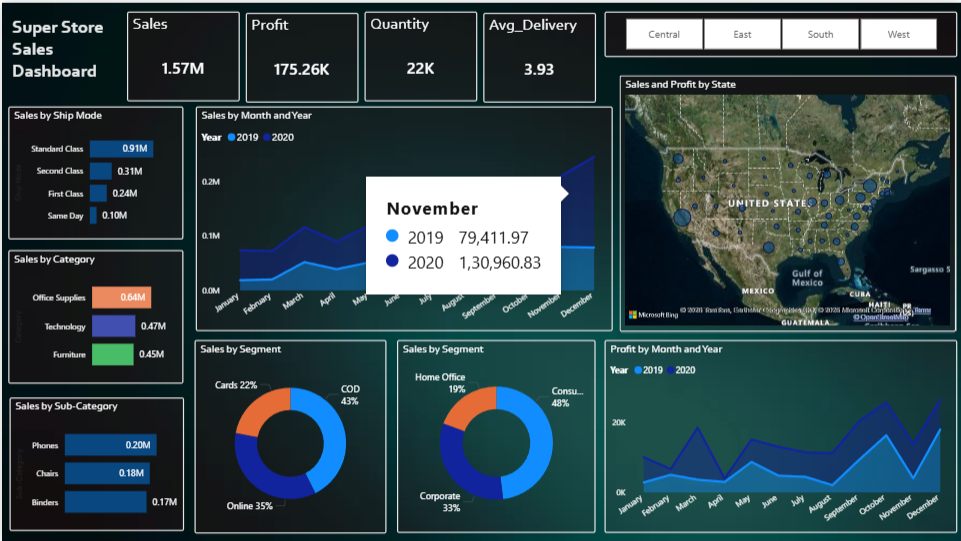

The page's visual inventory and layout, read from the dashboard file:
{"tool":"powerbi","page":{"name":"Page 1","canvas":[1280,720],"ordinal":0},"visuals":[{"type":"clusteredBarChart","title":"Sales by Category","fields":{"Category":["Table1.Category"],"Y":["Sum(Table1.Sales)"]},"box":[8.8,330,233.8,178.8],"z":0},{"type":"clusteredBarChart","title":"Sales by Sub-Category","fields":{"Y":["Sum(Table1.Sales)"],"Category":["Table1.Sub-Category"]},"box":[10,526.2,232.5,178.8],"z":1000},{"type":"clusteredBarChart","title":"Sales by Ship Mode","fields":{"Y":["Sum(Table1.Sales)"],"Category":["Table1.Ship Mode"]},"box":[8.8,138.8,233.8,177.5],"z":2000},{"type":"stackedAreaChart","title":"Profit by Month and Year","fields":{"Category":["Table1.Order Date.Variation.Date Hierarchy.Month"],"Series":["Table1.Order Date.Variation.Date Hierarchy.Year"],"Y":["Sum(Table1.Profit)"]},"box":[802.5,450,470,257.5],"z":3000},{"type":"stackedAreaChart","title":"Sales by Month and Year","fields":{"Y":["Sum(Table1.Sales)"],"Category":["Table1.Order Date.Variation.Date Hierarchy.Month"],"Series":["Table1.Order Date.Variation.Date Hierarchy.Year"]},"box":[257.5,138.8,556.2,300],"z":4000},{"type":"map","title":"Sales and Profit by State","fields":{"Category":["Table1.State"],"Size":["Sum(Table1.Sales)"]},"box":[823.8,96.2,448.8,342.5],"z":5000},{"type":"donutChart","title":"Sales by Segment","fields":{"Category":["Table1.Segment"],"Y":["Sum(Table1.Sales)"]},"box":[526.2,450,265,257.5],"z":6000},{"type":"donutChart","title":"Sales by Segment","fields":{"Y":["Sum(Table1.Sales)"],"Category":["Table1.Payment Mode"]},"box":[257.1,450,255.7,258.6],"z":7000},{"type":"slicer","fields":{"Values":["Table1.Region"]},"box":[803,12,470,61],"z":8000},{"type":"cardVisual","title":"Profit","fields":{"Data":["Sum(Table1.Profit)"]},"box":[325,13,150,120],"z":9000},{"type":"cardVisual","title":"Sales","fields":{"Data":["Sum(Table1.Sales)"]},"box":[167,12,150,120],"z":10000},{"type":"cardVisual","title":"Quantity","fields":{"Data":["Sum(Table1.Quantity)"]},"box":[483,12,150,120],"z":11000},{"type":"cardVisual","title":"Avg_Delivery","fields":{"Data":["Avg(Table1.Avg_Delivery)"]},"box":[642,14,150,120],"z":12000},{"type":"textbox","box":[8.9,12.2,146.7,120],"z":13000}]}

Visuals, with their boxes in screenshot pixels (x1, y1, x2, y2), scaled from the page's 1280x720 canvas onto the 961x541 screenshot:
"Sales by Category" clusteredBarChart: box=[7, 248, 182, 382]
"Sales by Sub-Category" clusteredBarChart: box=[8, 395, 182, 530]
"Sales by Ship Mode" clusteredBarChart: box=[7, 104, 182, 238]
"Profit by Month and Year" stackedAreaChart: box=[603, 338, 955, 532]
"Sales by Month and Year" stackedAreaChart: box=[193, 104, 611, 330]
"Sales and Profit by State" map: box=[618, 72, 955, 330]
"Sales by Segment" donutChart: box=[395, 338, 594, 532]
"Sales by Segment" donutChart: box=[193, 338, 385, 532]
slicer - Table1.Region: box=[603, 9, 956, 55]
"Profit" cardVisual: box=[244, 10, 357, 100]
"Sales" cardVisual: box=[125, 9, 238, 99]
"Quantity" cardVisual: box=[363, 9, 475, 99]
"Avg_Delivery" cardVisual: box=[482, 11, 595, 101]
textbox: box=[7, 9, 117, 99]
